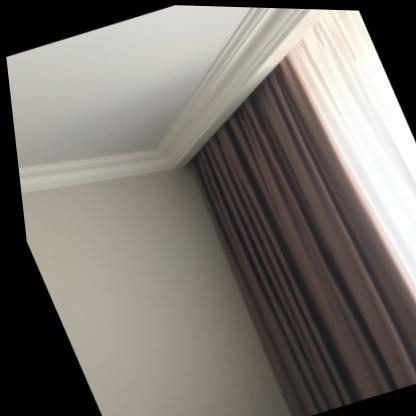Curtains: (186, 8, 416, 416)
